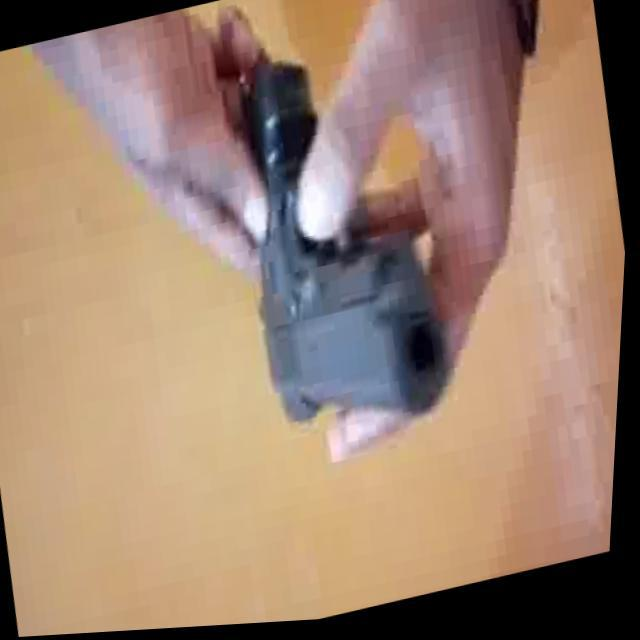weapon: (212, 24, 478, 462)
